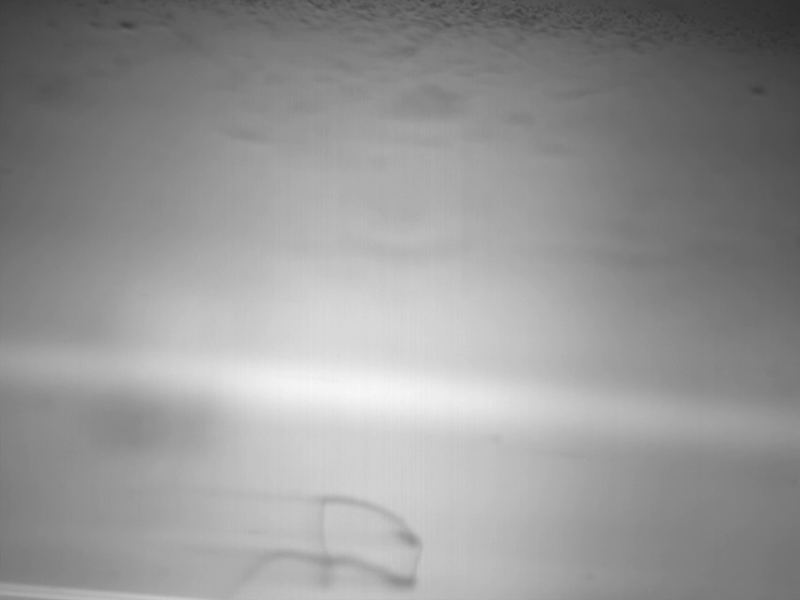fiber: (218, 492, 429, 597)
